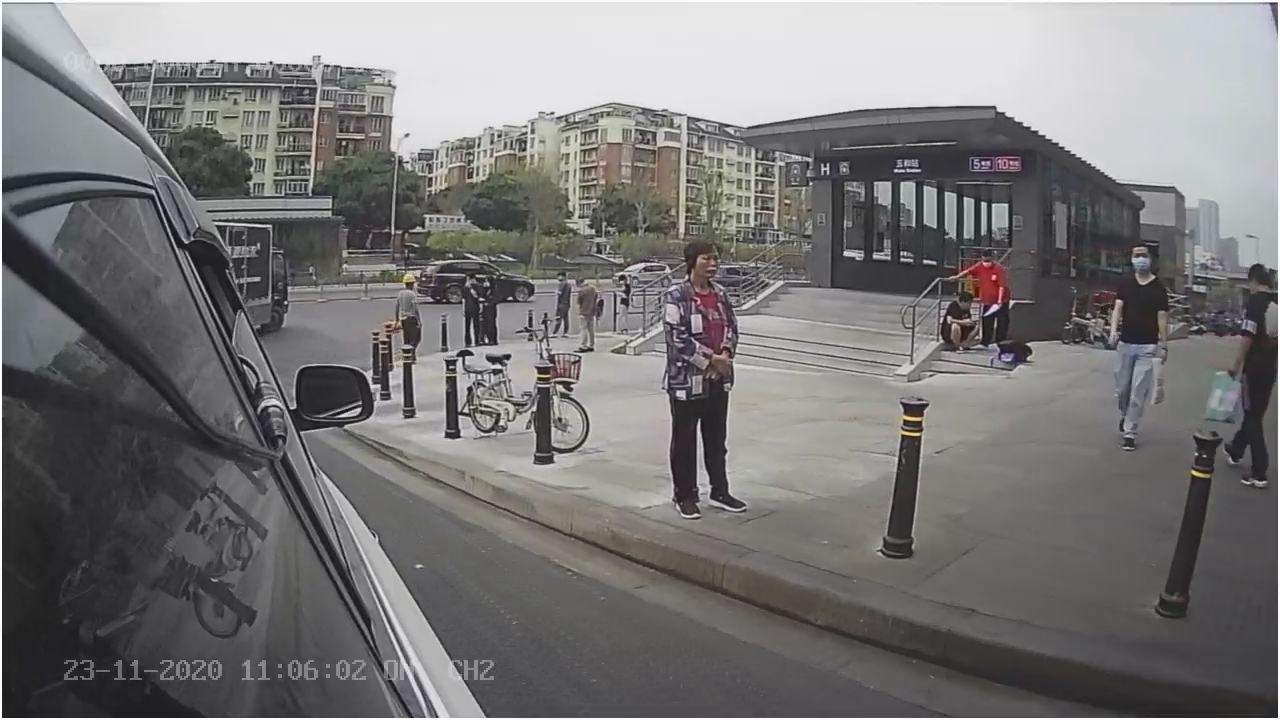person: (652, 234, 750, 523)
